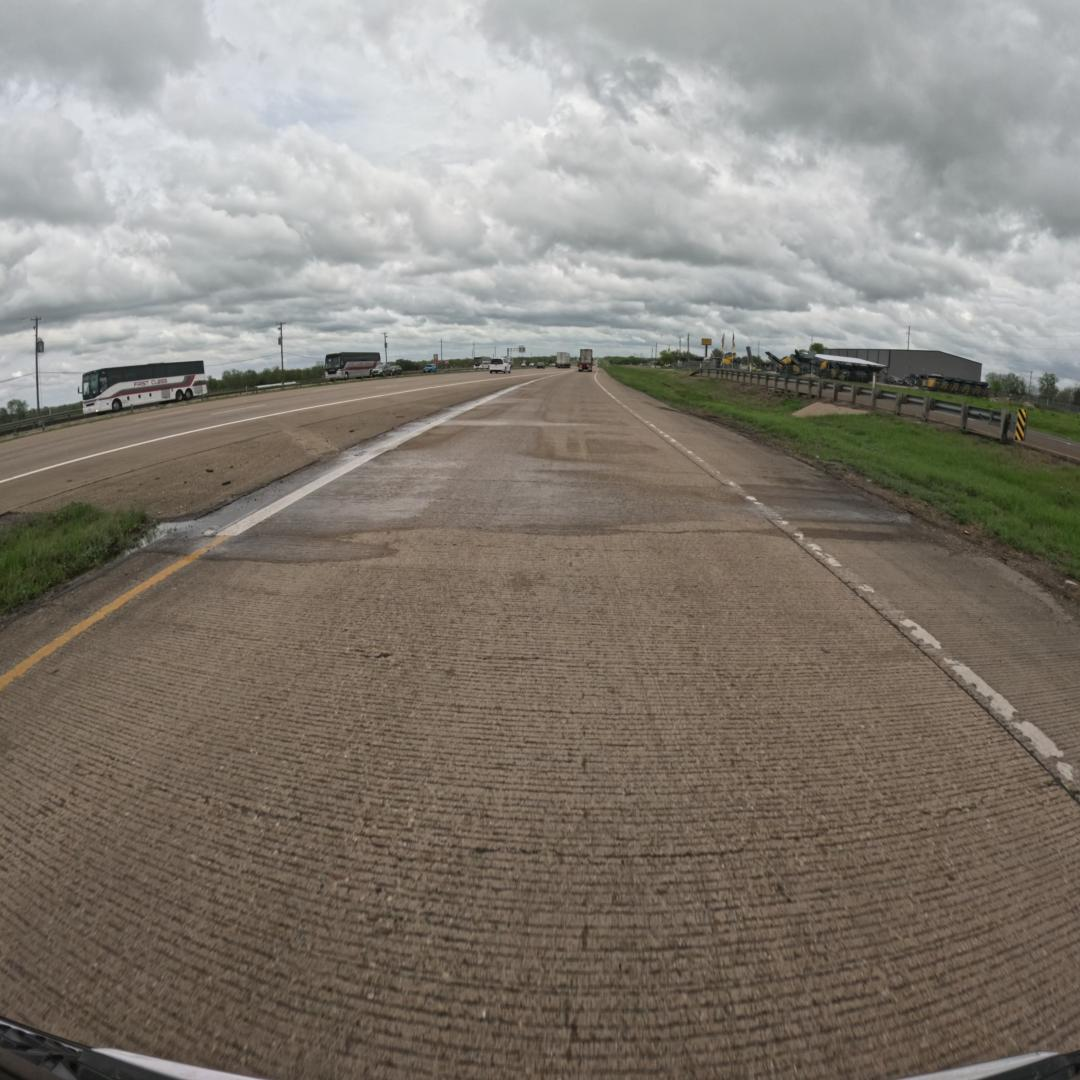lane0: (0, 373, 1080, 1077)
